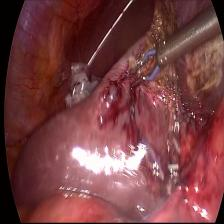Bipolar: (124, 40, 169, 96)
Specimen Bag: (58, 40, 108, 111)
